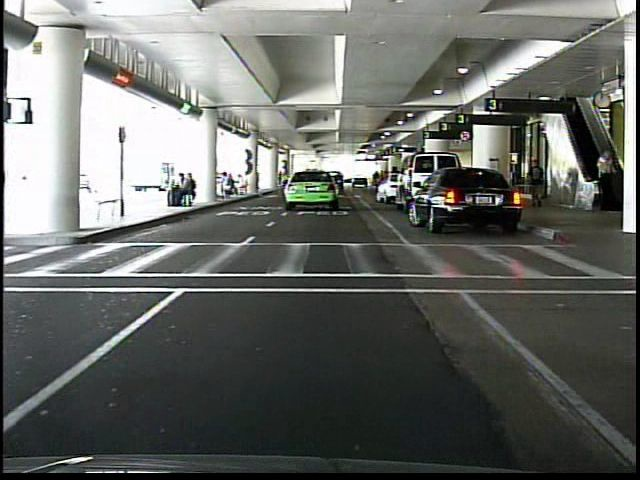person: (593, 145, 616, 209), (525, 154, 549, 214)
